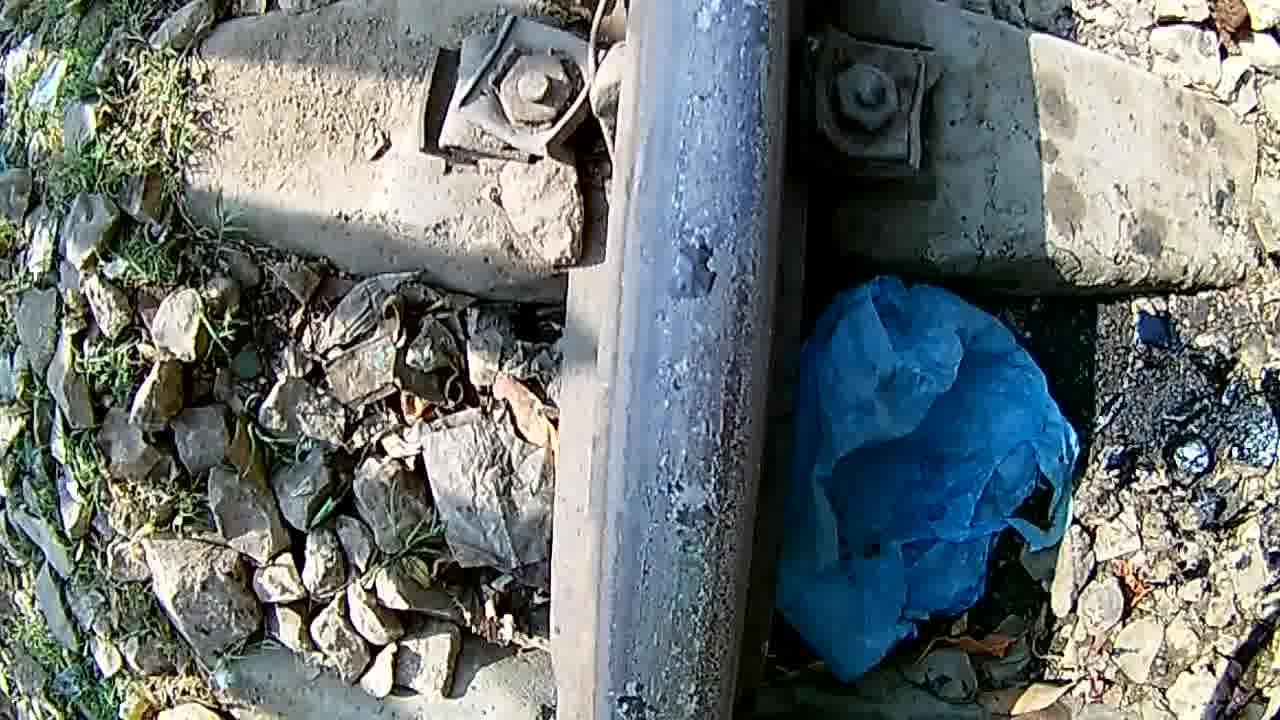crack: (621, 0, 779, 720)
